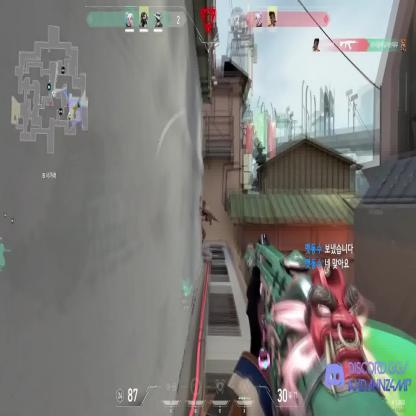enemy: (194, 199, 208, 251)
enemy_head: (201, 200, 206, 212)
